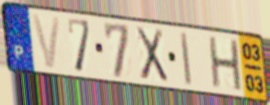7: (101, 20, 131, 81), (67, 17, 92, 75)
H: (207, 35, 245, 93)
I: (179, 30, 193, 88)
V: (30, 12, 63, 71)
X: (134, 25, 170, 84)
